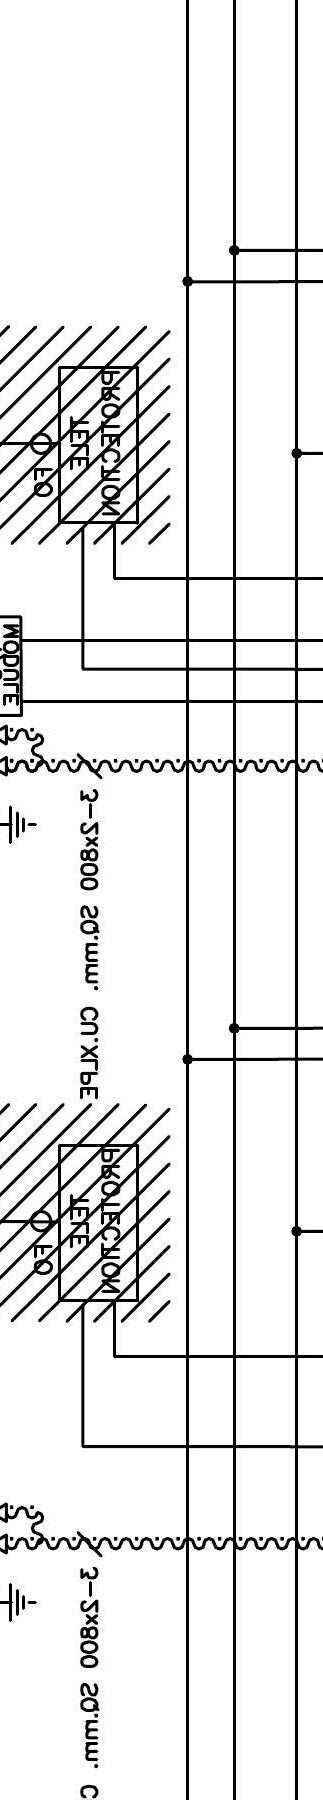tele_protection: (55, 1141, 143, 1304), (56, 363, 143, 527)
